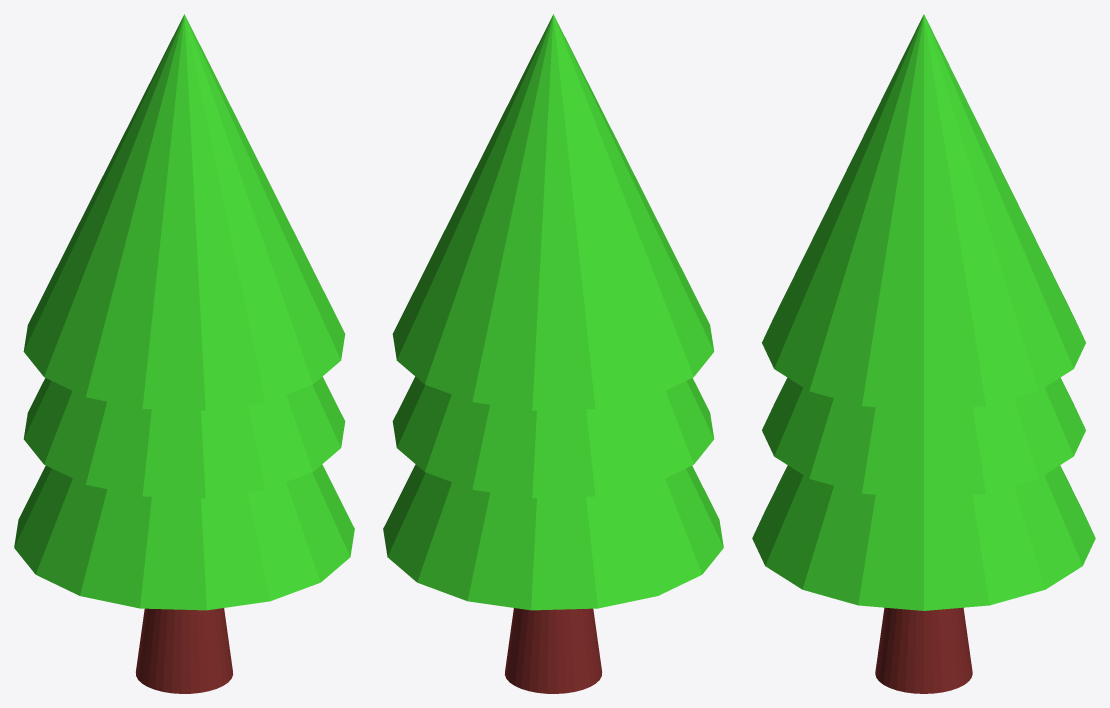
3 renders of one model, left to right at view 1: azimuth 30°, elevation 25°; view 2: azimuth 150°, elevation 25°; view 3: azimuth 270°, elevation 25°, orthographic.
Visible parts, largest first — view 1: Cone.002, Cone, Cone.001, Cylinder; view 2: Cone.002, Cone, Cone.001, Cylinder; view 3: Cone.002, Cone, Cone.001, Cylinder.
Boxes of the visible parts, left/top/right/bottom form: Cone.002: left=23, top=14, right=345, bottom=410; Cone: left=14, top=464, right=354, bottom=610; Cone.001: left=23, top=376, right=345, bottom=498; Cylinder: left=135, top=608, right=233, bottom=693; Cone.002: left=392, top=14, right=714, bottom=410; Cone: left=383, top=464, right=723, bottom=610; Cone.001: left=392, top=376, right=714, bottom=498; Cylinder: left=504, top=608, right=602, bottom=693; Cone.002: left=762, top=14, right=1085, bottom=411; Cone: left=752, top=465, right=1095, bottom=610; Cone.001: left=762, top=377, right=1085, bottom=498; Cylinder: left=875, top=607, right=972, bottom=693.
Size of the model in its own units: 81.41 by 172 by 81.41.
